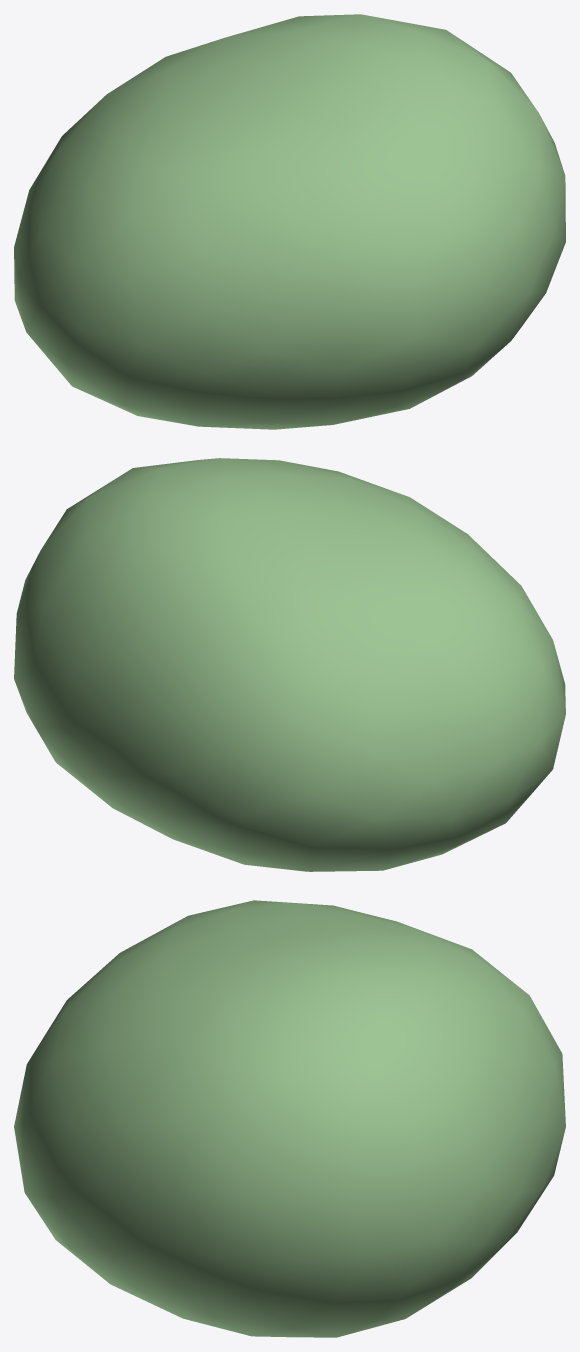
Rendered from shrub-a.glb.
3 renders of one model, top to bottom at view 1: azimuth 30°, elevation 25°; view 2: azimuth 150°, elevation 25°; view 3: azimuth 270°, elevation 25°, orthographic. The views are drawn at different scales.
Parts seen in each view (by area): view 1: shrub-a; view 2: shrub-a; view 3: shrub-a.
Part boxes in pixels (box(x1,y1,x2,y2)): shrub-a: box(14, 14, 565, 429); shrub-a: box(14, 458, 565, 871); shrub-a: box(14, 900, 565, 1337).
Bounding box in the file's own units: 1.58 × 1 × 1.38.
